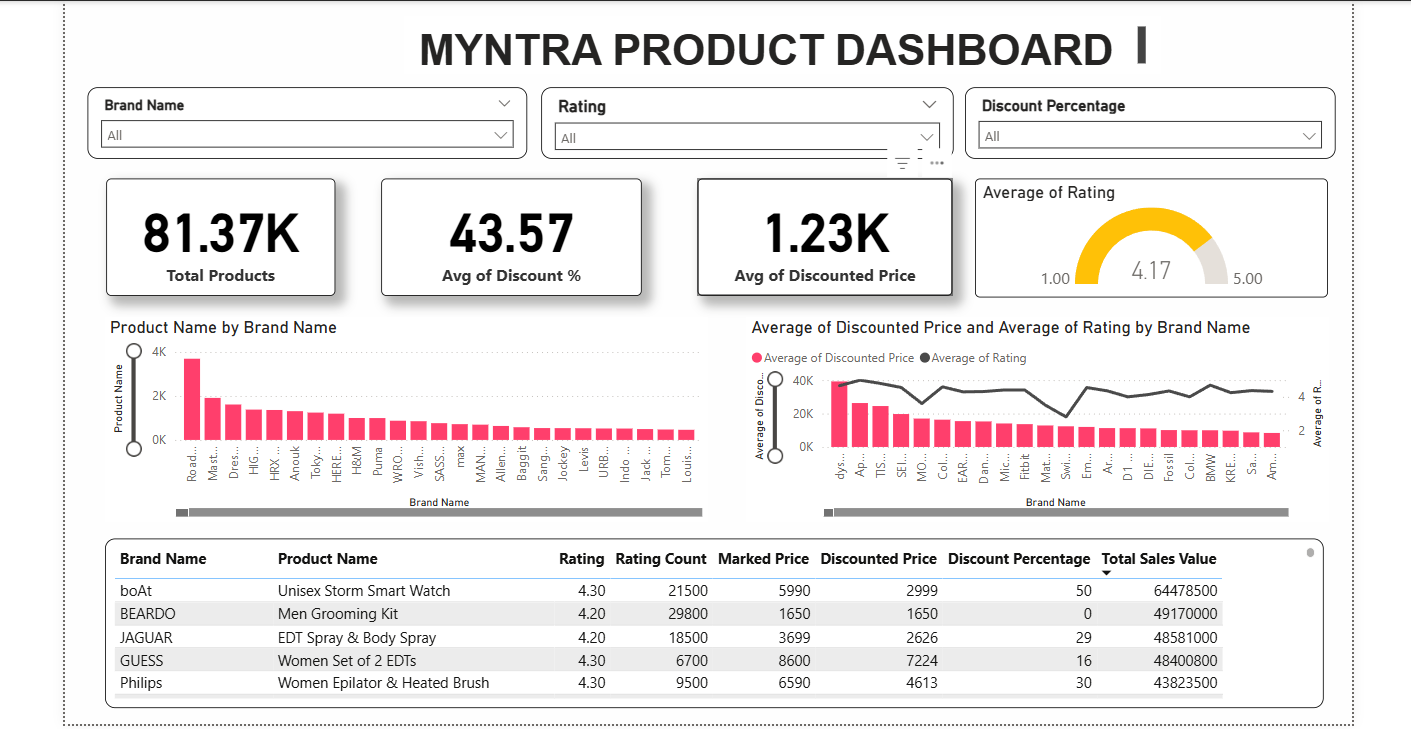

Layout of this report page (visuals, bound fields, positions):
{"tool":"powerbi","page":{"name":"Page 1","canvas":[1280,720],"ordinal":0},"visuals":[{"type":"textbox","box":[337.6,15.1,753.3,57.6],"z":0},{"type":"slicer","fields":{"Values":["cleaned data.brand_name"]},"box":[22,86.4,437.7,71.4],"z":1000},{"type":"slicer","fields":{"Values":["cleaned data.rating"]},"box":[473.4,86.4,410.3,71.4],"z":2000},{"type":"slicer","fields":{"Values":["cleaned data.discount percentage"]},"box":[896.1,86.4,369.1,71.4],"z":3000},{"type":"card","fields":{"Values":["CountNonNull(cleaned data.product_name)"]},"box":[41.2,177,227.8,116.6],"z":4000},{"type":"card","fields":{"Values":["Avg(cleaned data.discount percentage)"]},"box":[314.2,177,259.3,116.6],"z":5000},{"type":"card","fields":{"Values":["Avg(cleaned data.discounted_price)"]},"box":[629.8,177,253.9,116.6],"z":6000},{"type":"gauge","fields":{"Y":["Avg(cleaned data.rating)"]},"box":[905.7,177,351.3,118],"z":7000},{"type":"columnChart","fields":{"Category":["cleaned data.brand_name"],"Y":["CountNonNull(cleaned data.product_name)"]},"box":[39.8,314.2,599.7,203.1],"z":8000},{"type":"lineClusteredColumnComboChart","fields":{"Y":["Avg(cleaned data.discounted_price)"],"Y2":["Avg(cleaned data.rating)"],"Category":["cleaned data.brand_name"]},"box":[677.9,314.2,579.1,203.1],"z":9000},{"type":"tableEx","fields":{"Values":["cleaned data.brand_name","cleaned data.product_name","cleaned data.rating","cleaned data.rating_count","cleaned data.marked_price","cleaned data.discounted_price","cleaned data.discount percentage","cleaned data.revenue"]},"box":[39.8,535.2,1213,168.8],"z":10000}]}

Visuals, with their boxes on the page's 1280x720 design canvas (x1, y1, x2, y2). These are canvas units, not pixel positions in the 1411x729 screenshot, which may show the page scaled, cropped or inside an application window:
textbox: rect(338, 15, 1091, 73)
slicer - cleaned data.brand_name: rect(22, 86, 460, 158)
slicer - cleaned data.rating: rect(473, 86, 884, 158)
slicer - cleaned data.discount percentage: rect(896, 86, 1265, 158)
card - CountNonNull(cleaned data.product_name): rect(41, 177, 269, 294)
card - Avg(cleaned data.discount percentage): rect(314, 177, 574, 294)
card - Avg(cleaned data.discounted_price): rect(630, 177, 884, 294)
gauge - Avg(cleaned data.rating): rect(906, 177, 1257, 295)
columnChart - cleaned data.brand_name x CountNonNull(cleaned data.product_name): rect(40, 314, 640, 517)
lineClusteredColumnComboChart - Avg(cleaned data.discounted_price) x Avg(cleaned data.rating): rect(678, 314, 1257, 517)
tableEx - cleaned data.brand_name x cleaned data.product_name: rect(40, 535, 1253, 704)
